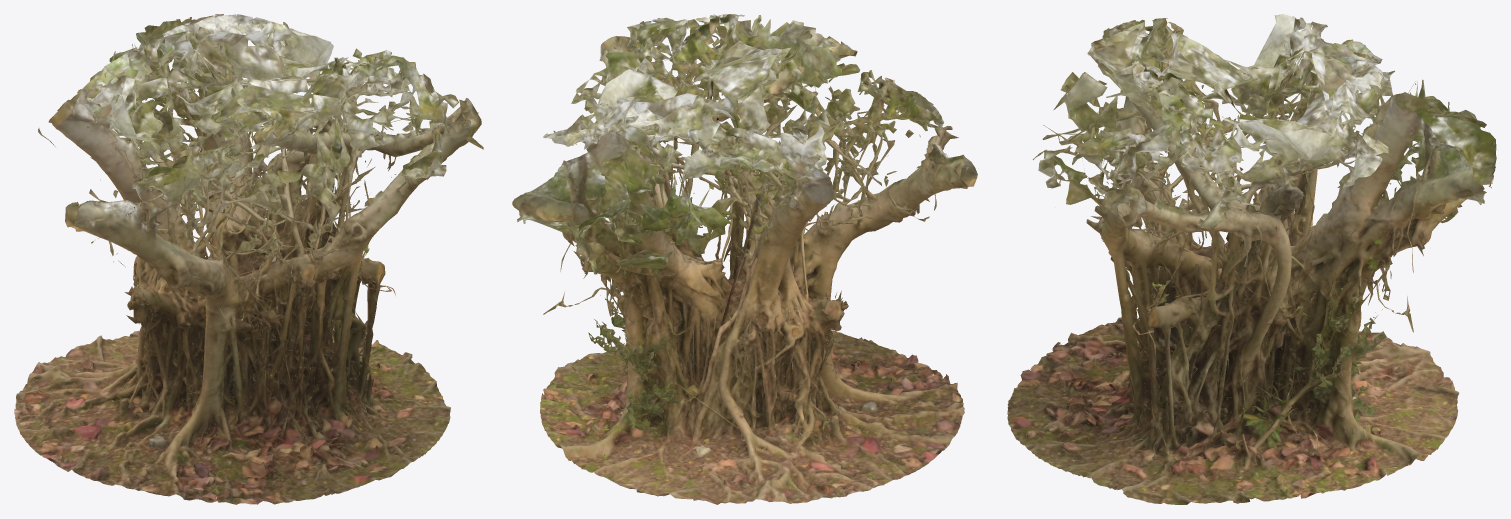
Rendered from captured-banyan-low.glb.
The picture shows the model from 3 angles, left to right: view 1: azimuth 30°, elevation 25°; view 2: azimuth 150°, elevation 25°; view 3: azimuth 270°, elevation 25°; orthographic projection. The views are drawn at different scales.
Visible parts, largest first — view 1: Object_6.001; view 2: Object_6.001; view 3: Object_6.001.
Part boxes in pixels (bbox=[...]): Object_6.001: bbox=[14, 14, 483, 504]; Object_6.001: bbox=[512, 14, 977, 504]; Object_6.001: bbox=[1007, 14, 1496, 504].
Size of the model in its own units: 2.59 by 2.29 by 2.65.
1 material, 1 textured.
